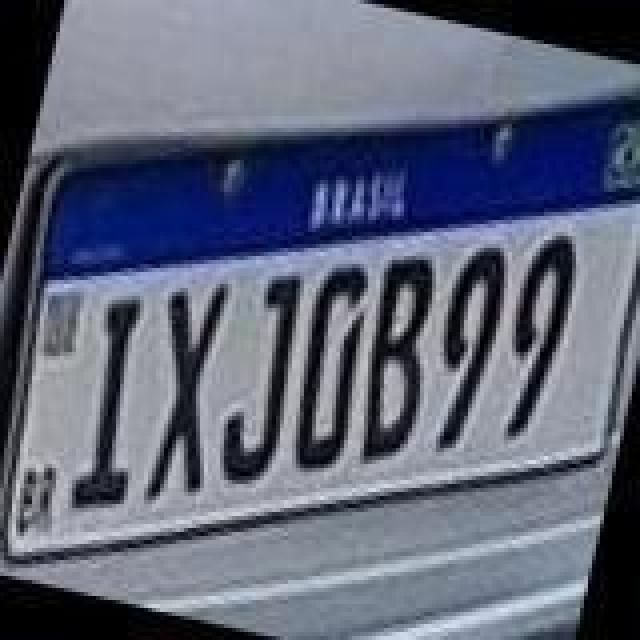9: (412, 240, 516, 464), (484, 224, 588, 448)
B: (342, 248, 458, 472)
D: (272, 256, 384, 480)
I: (60, 292, 172, 524)
J: (210, 266, 318, 494)
X: (120, 270, 248, 514)
